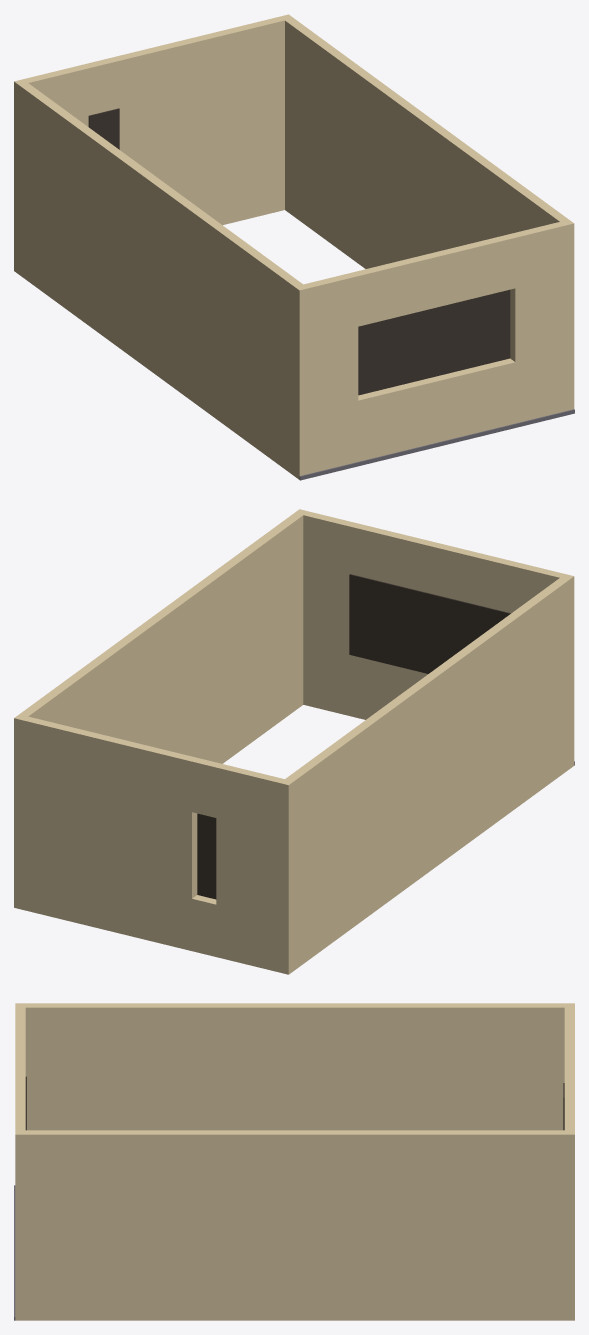
File: SM_Floor_NarrowUpperWindow_Yellow_455_Back_01.gltf
3 views of the same model, one above another, from view 1: azimuth 30°, elevation 25°; view 2: azimuth 150°, elevation 25°; view 3: azimuth 270°, elevation 25° (orthographic). The views are drawn at different scales.
Visible parts, largest first — view 1: SM_Floor_NarrowUpperWindow_Yellow_455_Back_01; view 2: SM_Floor_NarrowUpperWindow_Yellow_455_Back_01; view 3: SM_Floor_NarrowUpperWindow_Yellow_455_Back_01.
Part boxes in pixels (box(x1,y1,x2,y2)): SM_Floor_NarrowUpperWindow_Yellow_455_Back_01: box(14, 14, 574, 480); SM_Floor_NarrowUpperWindow_Yellow_455_Back_01: box(14, 509, 574, 974); SM_Floor_NarrowUpperWindow_Yellow_455_Back_01: box(14, 1003, 574, 1320).
Bounding box in the file's own units: 4.55 × 3 × 8.21.
1 material, 1 textured.
